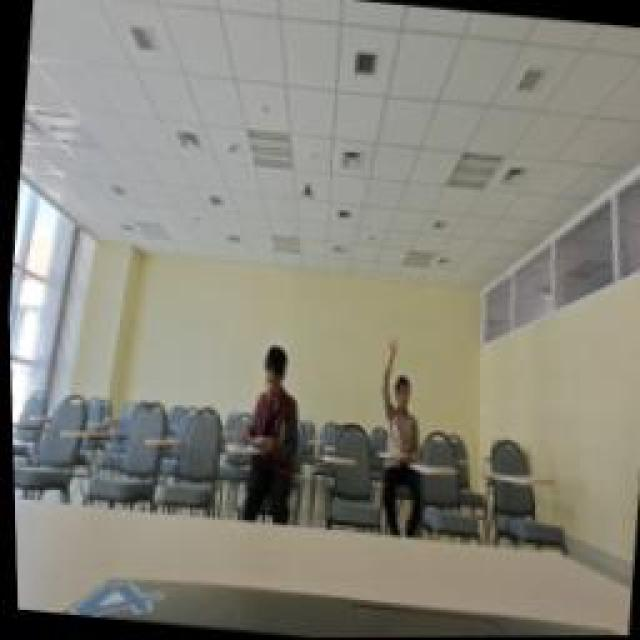study: (225, 343, 303, 455), (370, 335, 428, 467)
